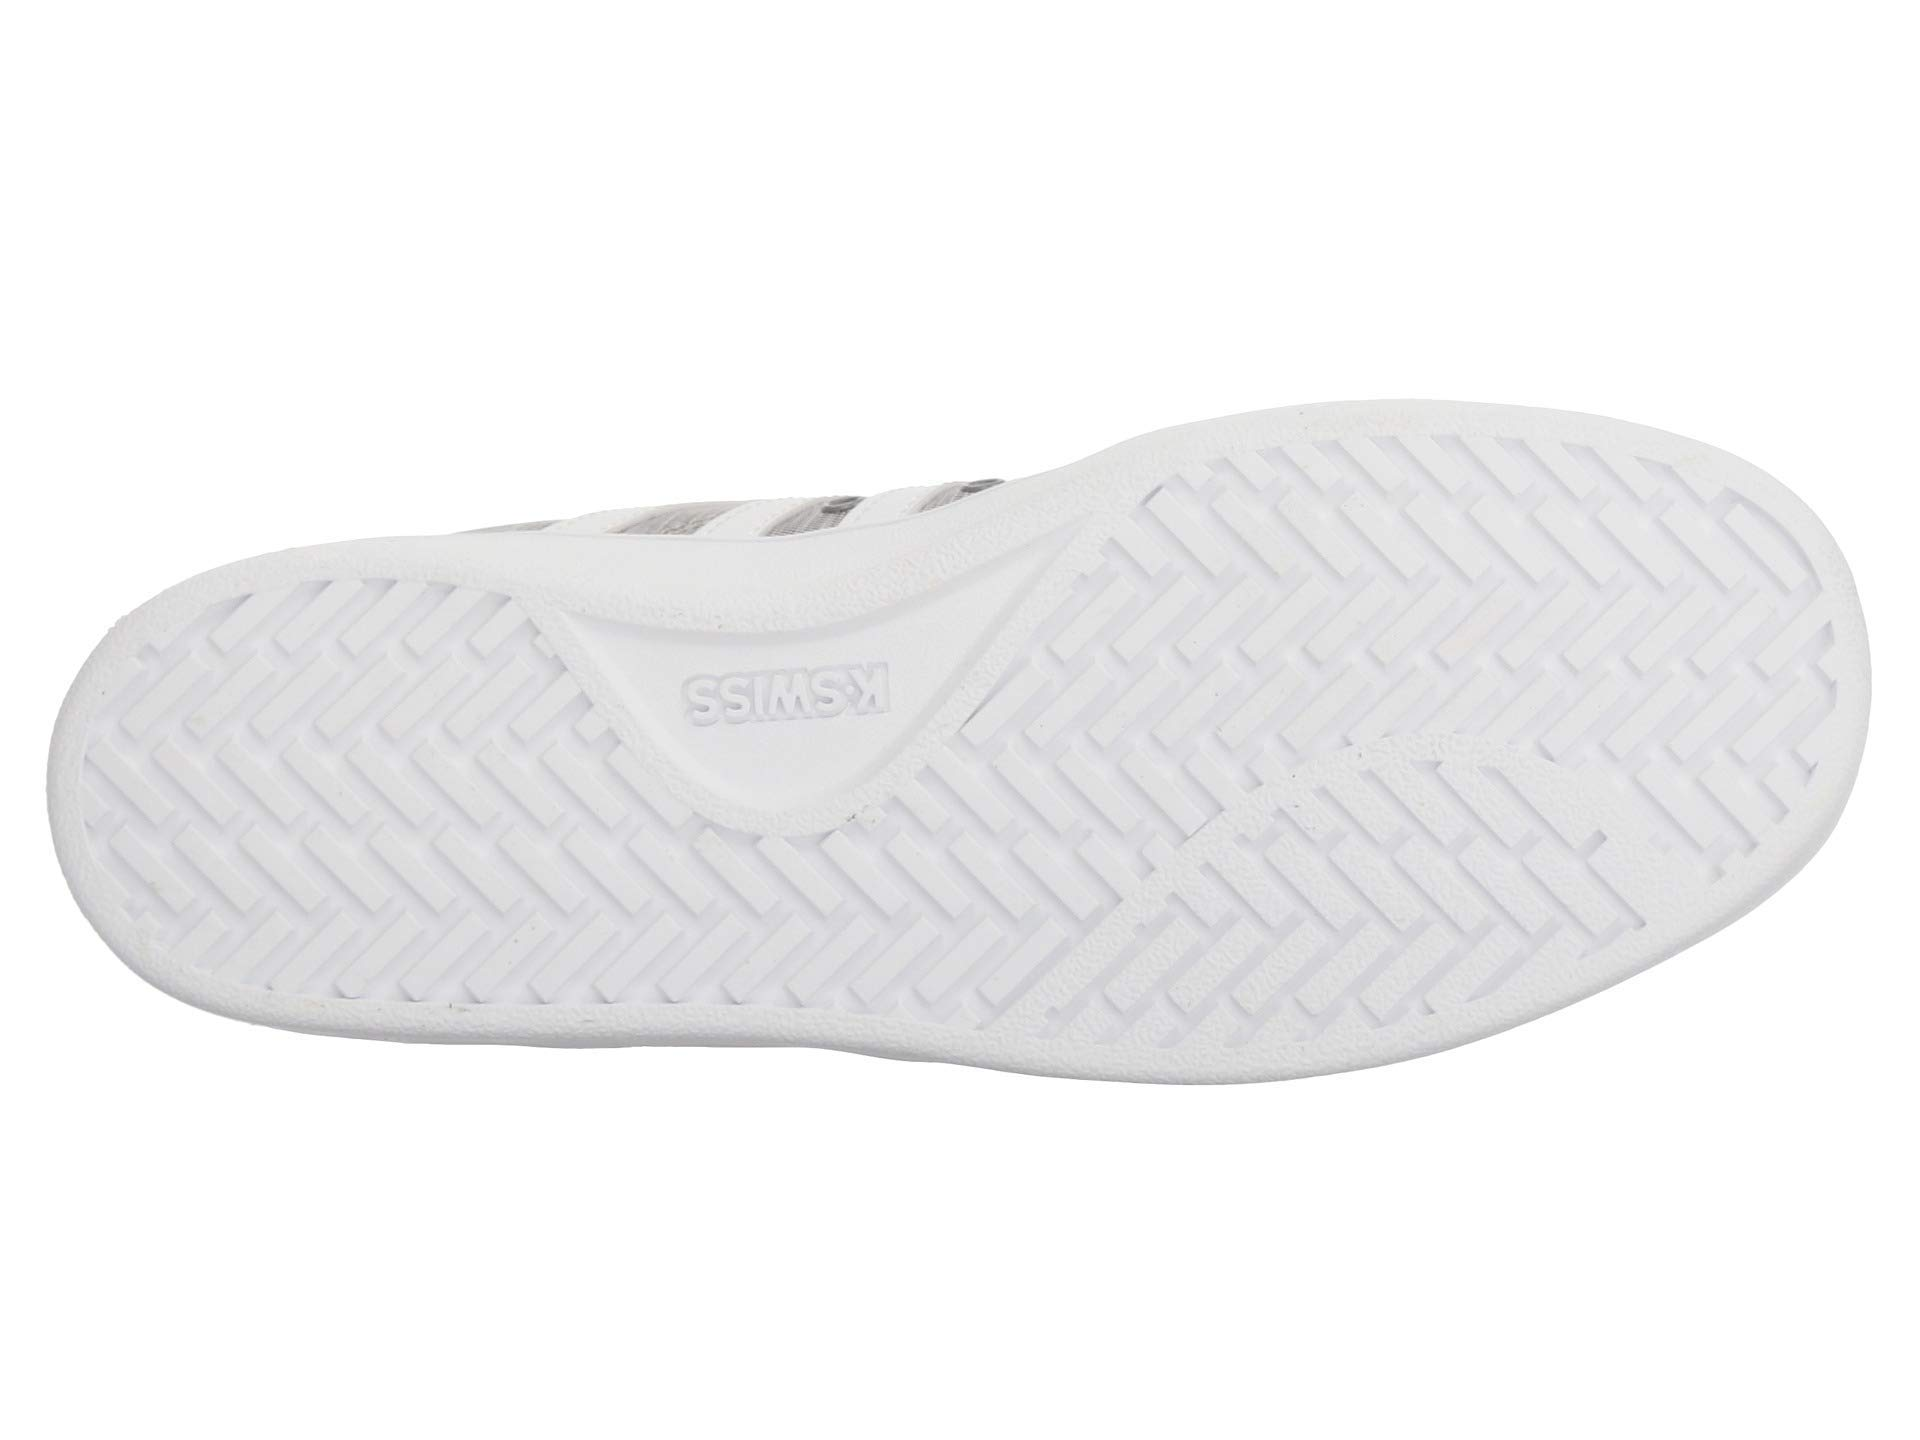chevron: (1104, 486, 1599, 985), (177, 632, 636, 1030)
quad: (1104, 486, 1599, 985), (177, 632, 636, 1030)
text: (665, 622, 903, 765)
